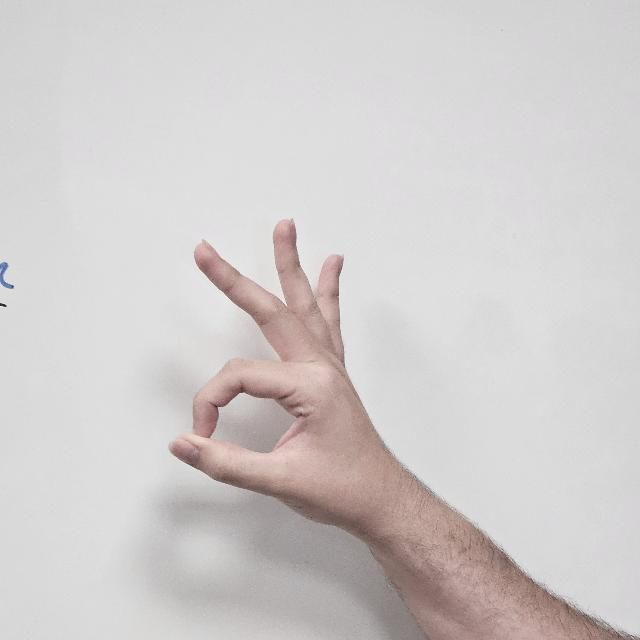Bolinha: (167, 197, 431, 553)
